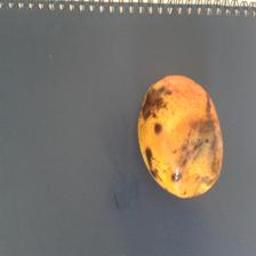Mango Rotten: (128, 67, 232, 216)
